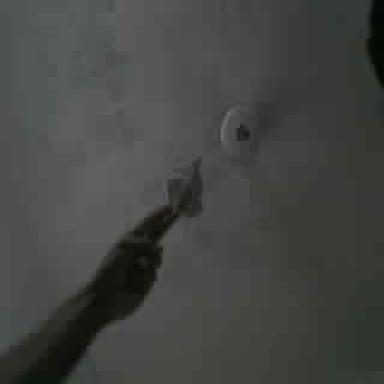paper: (168, 158, 199, 216)
